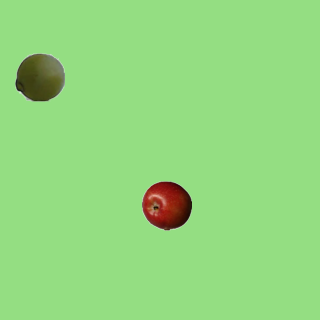Apple Braeburn: (141, 180, 191, 230)
Grape White 4: (14, 51, 64, 101)
